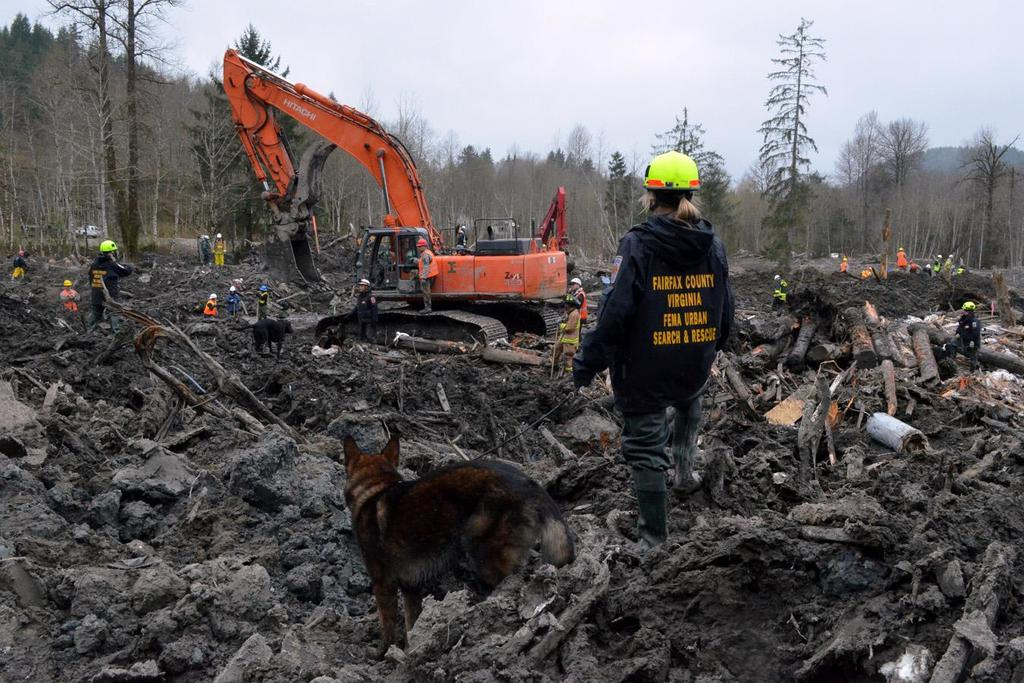Animal: (333, 415, 566, 659)
